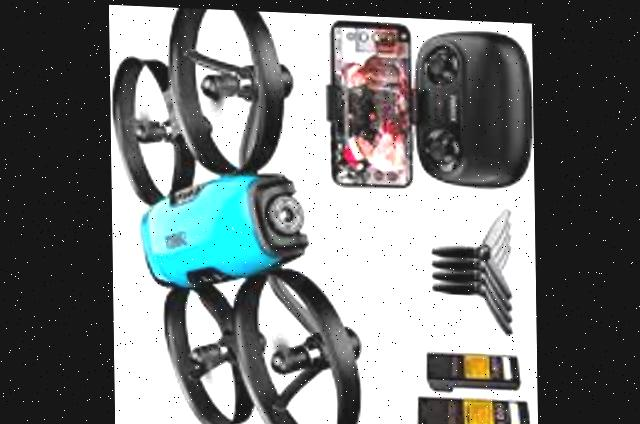drone: (108, 4, 372, 424)
